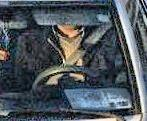seatbelt: (63, 21, 106, 67)
